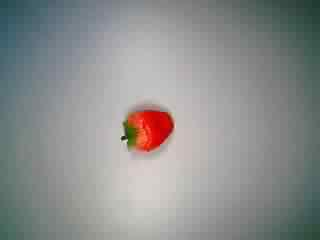strawberry: (112, 97, 178, 159)
